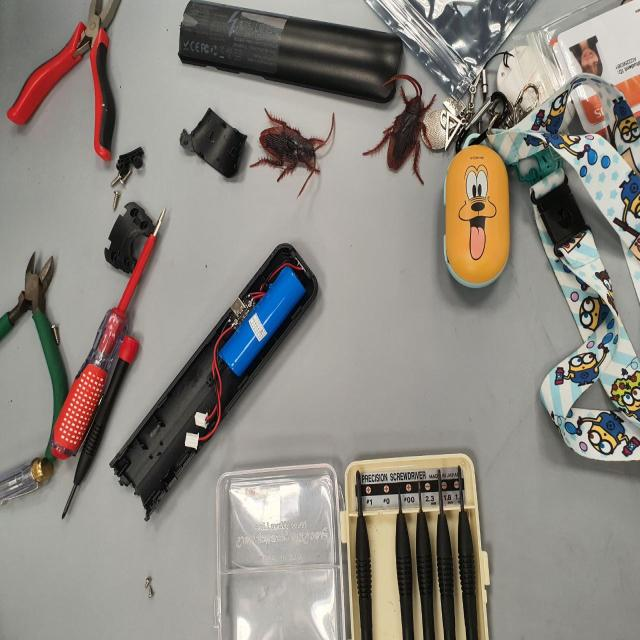Cockroach: (246, 101, 342, 194), (371, 65, 439, 195)
